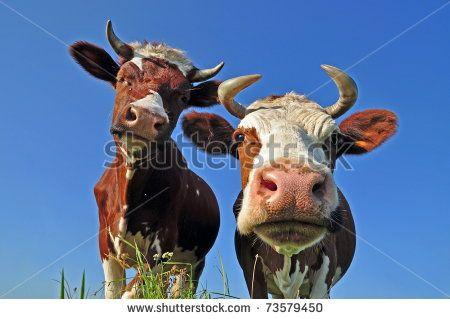cow: (64, 16, 203, 155)
